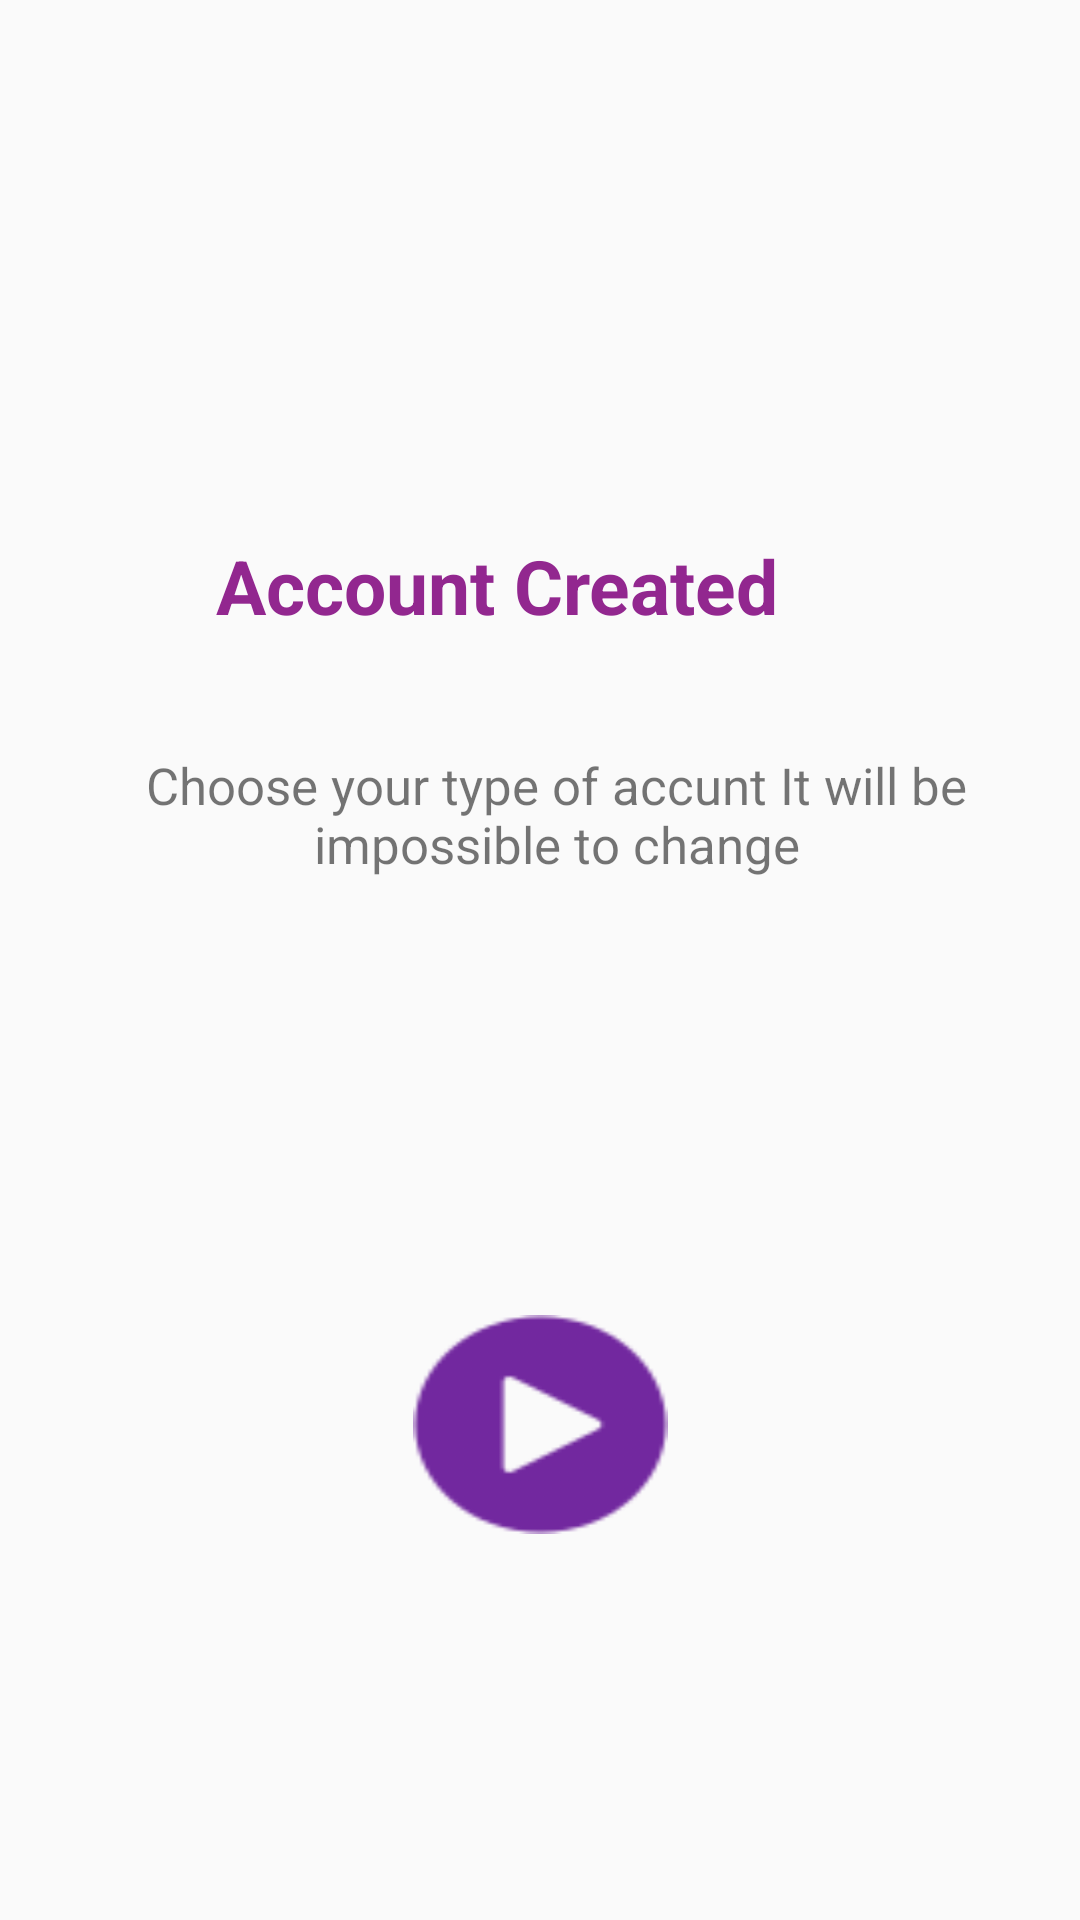

Locate icon controls on the screen. Image size 1080w x 1920h, boxes as (x1, y1, x2, y2).
play: (413, 1315, 668, 1534)
